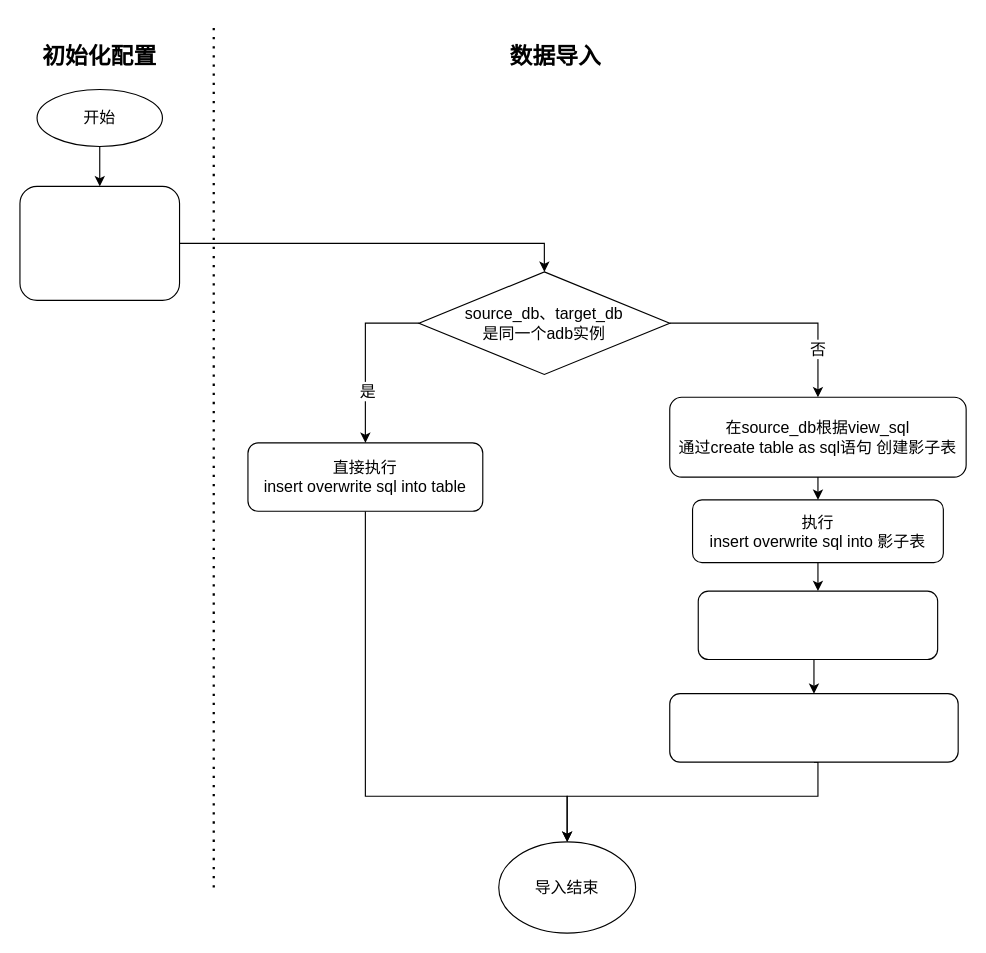
Image size: 986x953. Some labels were removed from this diagram. The shapes that lost their labels are listed below. From the top down, each one's centre as x and y in pixels, then its label:
At point 99,242: "定义基础配置： source_db view_sql target_db target_table".
At point 817,624: "在target_db创建影子表的外表".
At point 813,727: "执行 insert overweite select * from 外表 into target_table".
